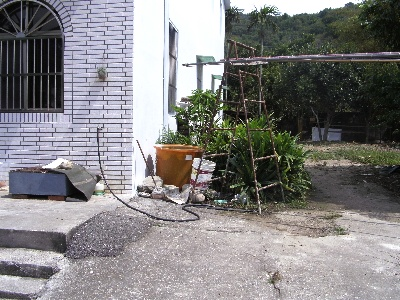box: (8, 171, 67, 196)
bucket: (153, 144, 202, 187), (189, 158, 216, 189)
